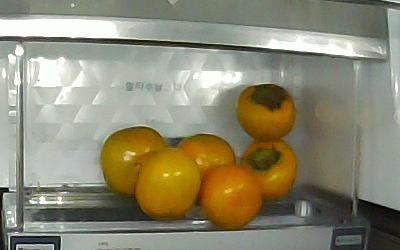persimmon: (99, 125, 166, 196), (136, 148, 201, 220), (200, 166, 265, 231), (236, 84, 297, 141), (241, 140, 299, 198), (176, 132, 234, 180)
